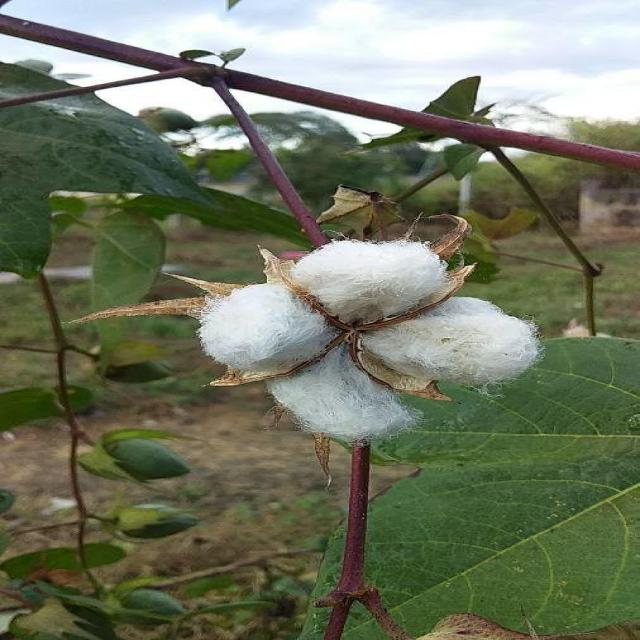Early_blight: (191, 235, 545, 436)
